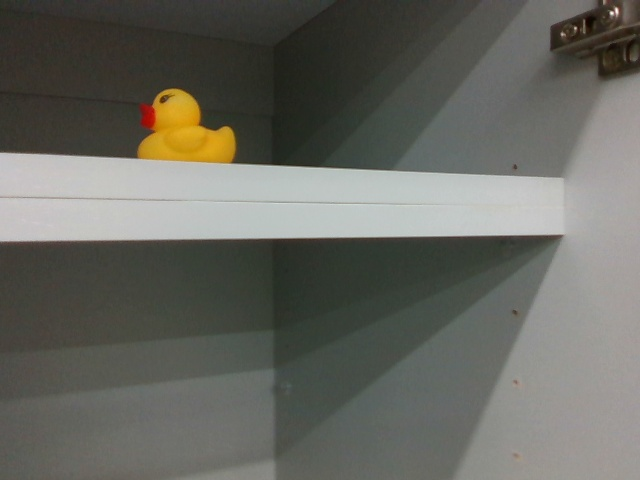duck: (131, 79, 237, 169)
